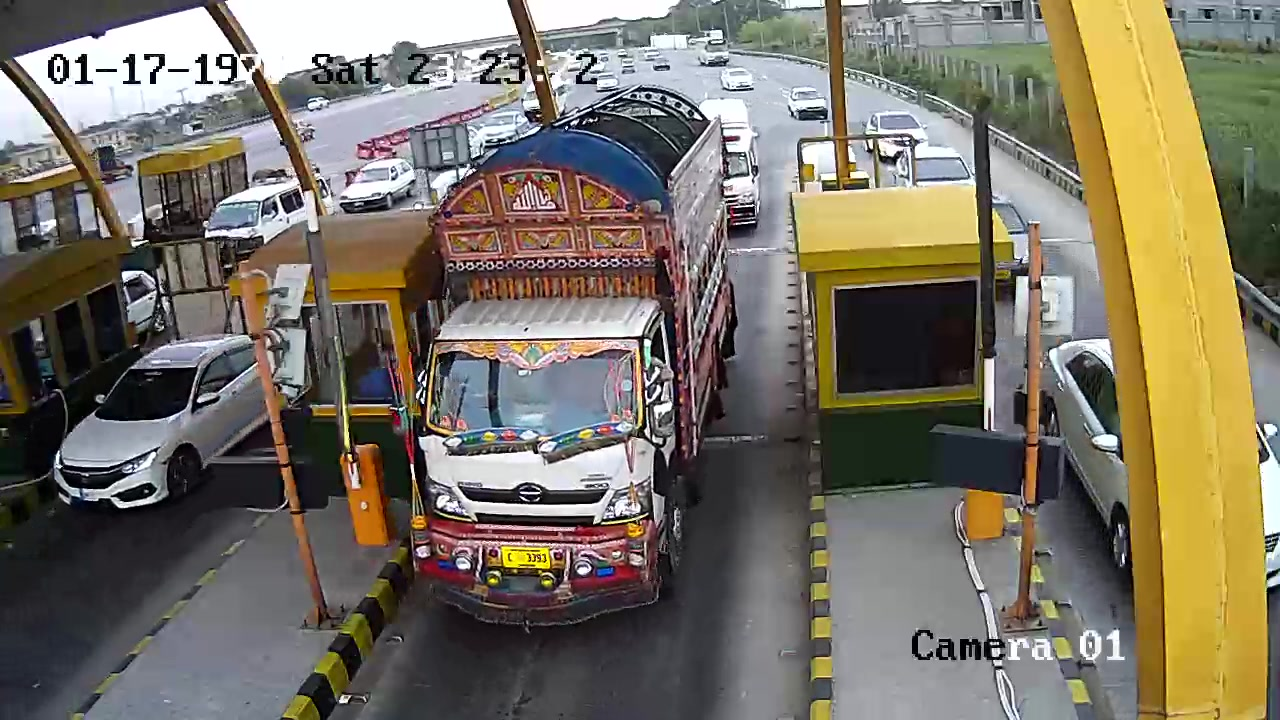F5: (415, 85, 738, 621)
